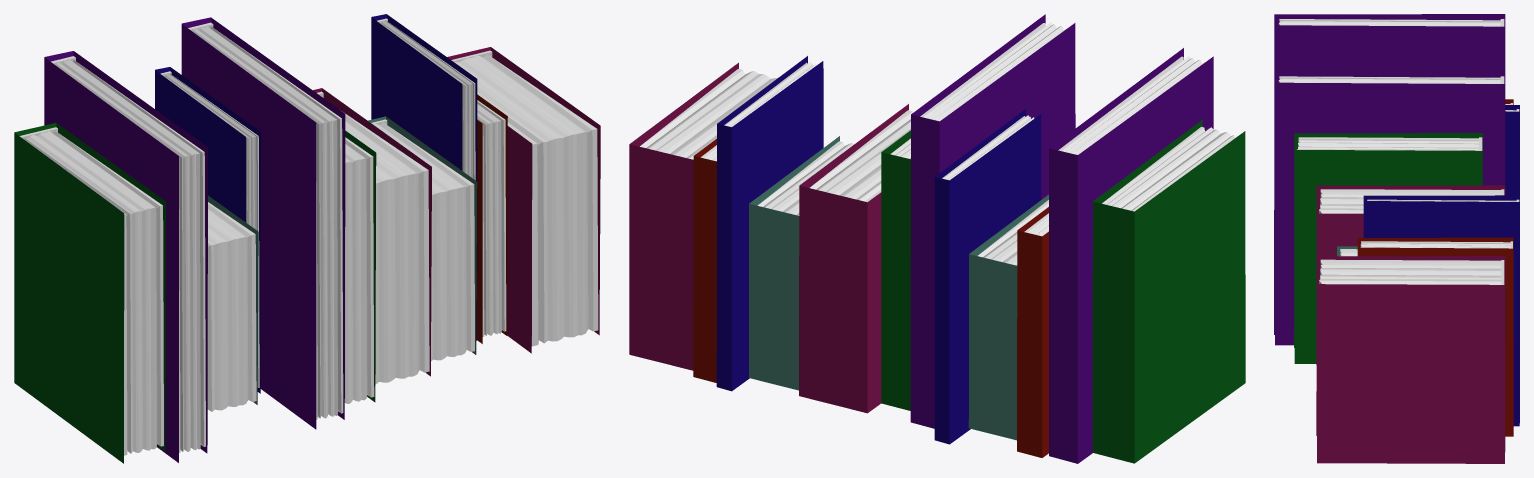
The model's file is books.fbx.
The picture shows the model from 3 angles, left to right: view 1: azimuth 30°, elevation 25°; view 2: azimuth 150°, elevation 25°; view 3: azimuth 270°, elevation 25°; orthographic projection. The views are drawn at different scales.
Visible parts, largest first — view 1: book_cover.007, book_cover.005, book_cover.008, book_cover.006, book_cover.003, book_cover.001, book_cover.009, book_cover.002, book_cover.010, book_cover.004, book_cover; view 2: book_cover.007, book_cover.006, book_cover.003, book_cover.005, book_cover.008, book_cover.010, book_cover.001, book_cover.002, book_cover.009, book_cover.004, book_cover.011, book_cover; view 3: book_cover.008, book_cover.005, book_cover.004, book_cover.006, book_cover.001, book_cover.003, book_cover, book_cover.010.
Boxes of the visible parts, <box> form: book_cover.007: <box>14,123,165,463</box>; book_cover.005: <box>181,17,345,429</box>; book_cover.008: <box>447,47,600,353</box>; book_cover.006: <box>44,51,207,462</box>; book_cover.003: <box>313,88,431,384</box>; book_cover.001: <box>371,14,477,340</box>; book_cover.009: <box>207,195,258,411</box>; book_cover.002: <box>368,116,477,361</box>; book_cover.010: <box>155,67,260,393</box>; book_cover.004: <box>344,130,376,403</box>; book_cover: <box>477,94,507,343</box>; book_cover.007: <box>1092,120,1245,463</box>; book_cover.006: <box>1049,48,1213,463</box>; book_cover.003: <box>799,104,913,413</box>; book_cover.005: <box>910,14,1075,428</box>; book_cover.008: <box>629,62,777,370</box>; book_cover.010: <box>934,109,1041,444</box>; book_cover.001: <box>716,56,823,391</box>; book_cover.002: <box>749,136,854,390</box>; book_cover.009: <box>968,194,1048,440</box>; book_cover.004: <box>881,130,910,410</box>; book_cover.011: <box>1017,207,1048,457</box>; book_cover: <box>693,138,716,382</box>; book_cover.008: <box>1316,256,1505,463</box>; book_cover.005: <box>1274,71,1505,345</box>; book_cover.004: <box>1294,133,1482,363</box>; book_cover.006: <box>1274,14,1505,266</box>; book_cover.001: <box>1363,195,1519,426</box>; book_cover.003: <box>1316,185,1505,364</box>; book_cover: <box>1357,237,1513,436</box>; book_cover.010: <box>1505,105,1519,195</box>.
Bounding box in the file's own units: 80.25 × 48.82 × 40.67.
